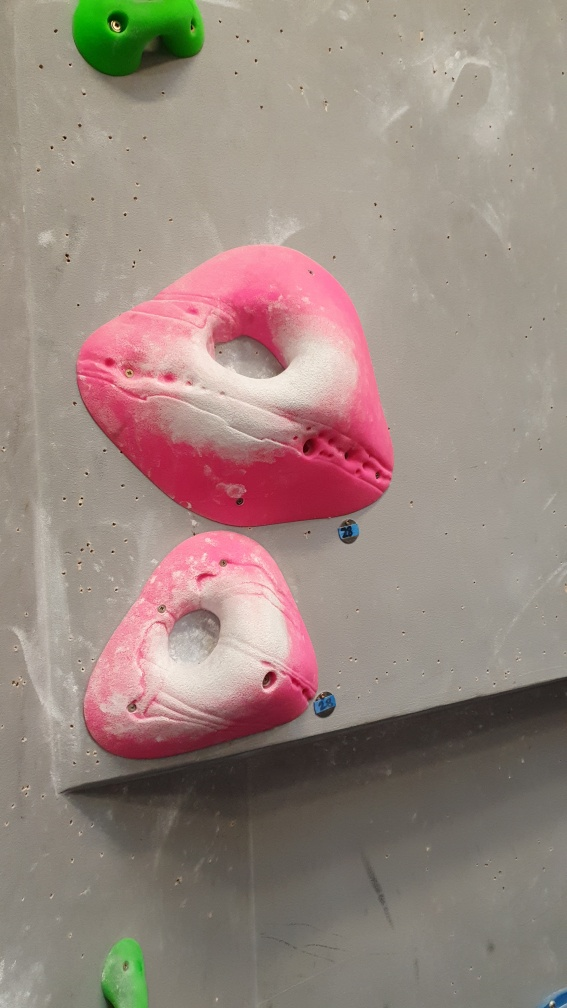Hand Start: (310, 690, 338, 722), (334, 517, 361, 548)
Pocket: (73, 243, 397, 528), (80, 531, 321, 760)
